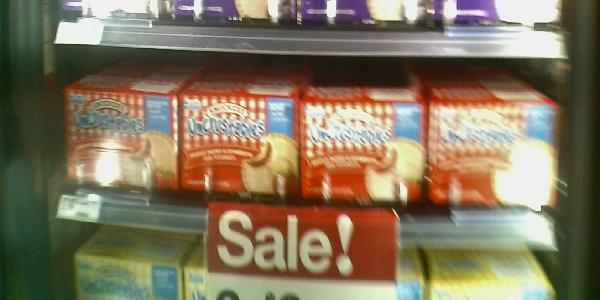icecream: (428, 94, 560, 217), (55, 83, 179, 196), (179, 88, 303, 201), (299, 96, 427, 205)
